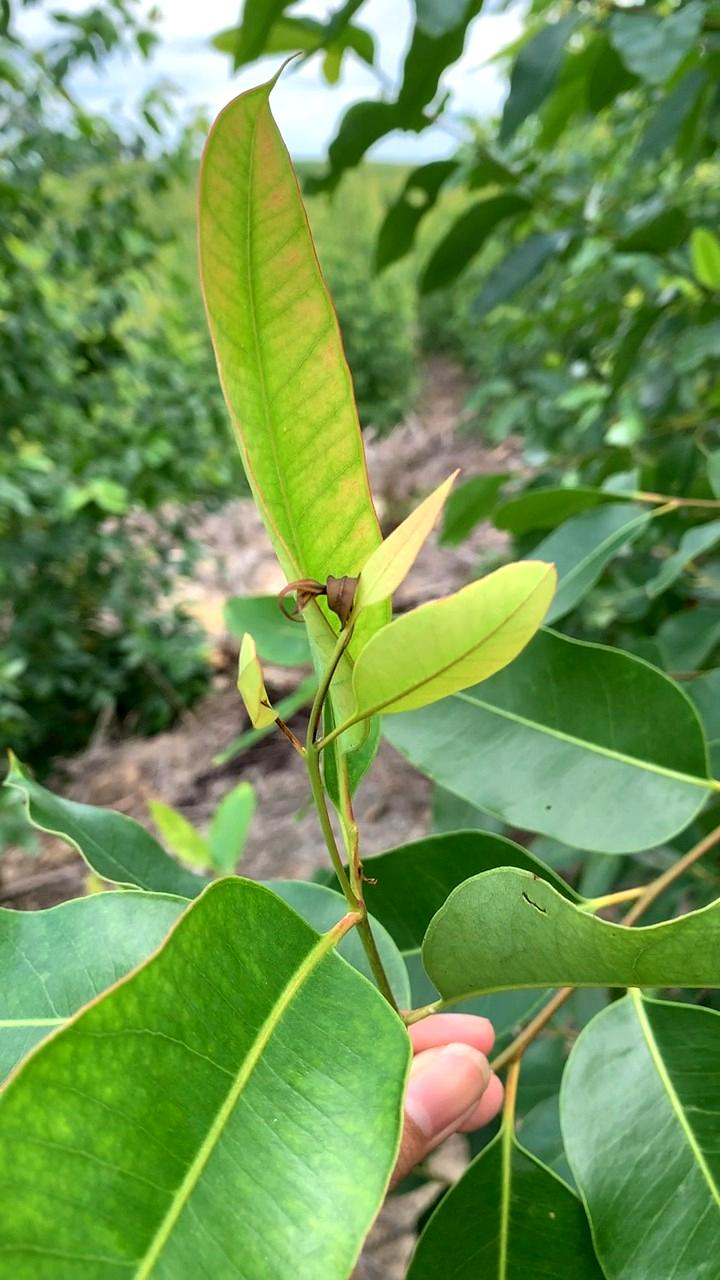Helopeltis-Withered Sprout: (270, 569, 363, 631)
